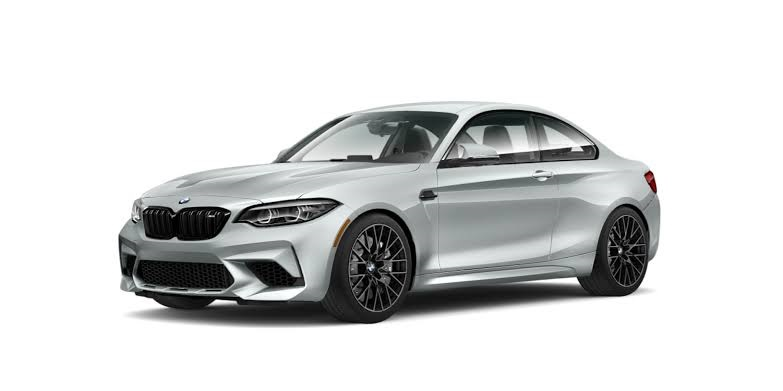bmw: (91, 92, 671, 326)
